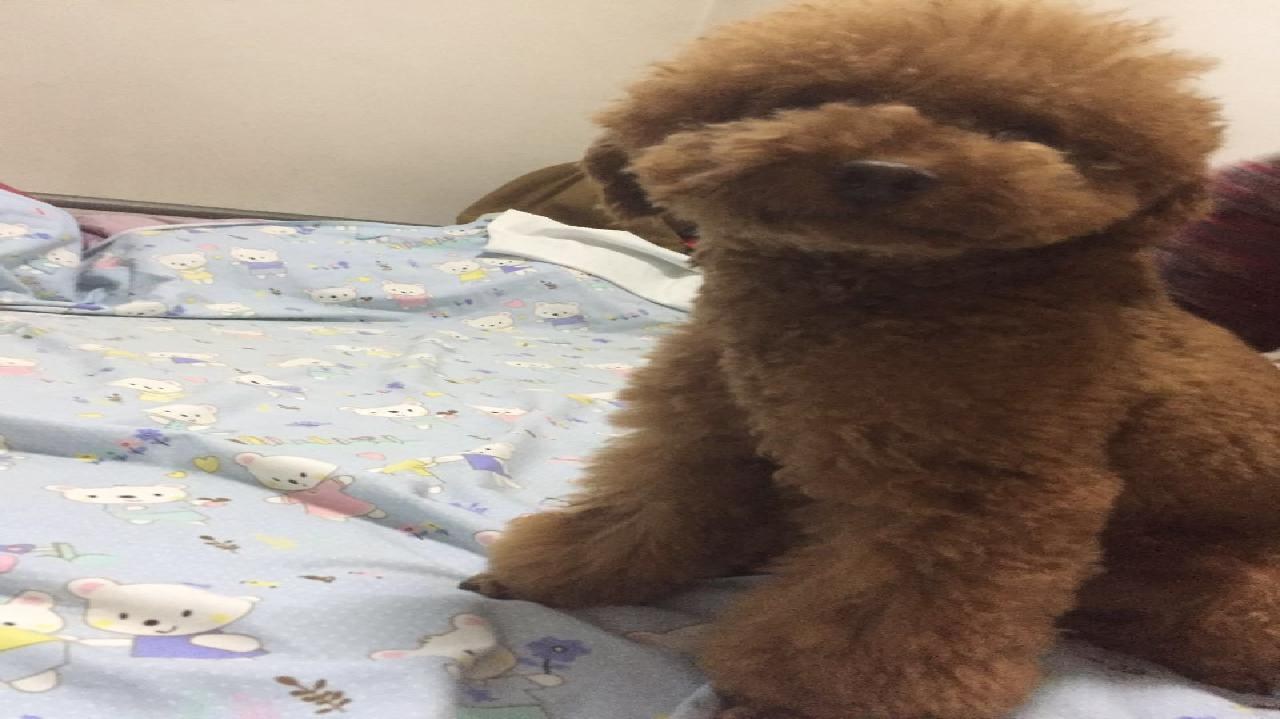zhuangzhuang: (571, 5, 1280, 710)
